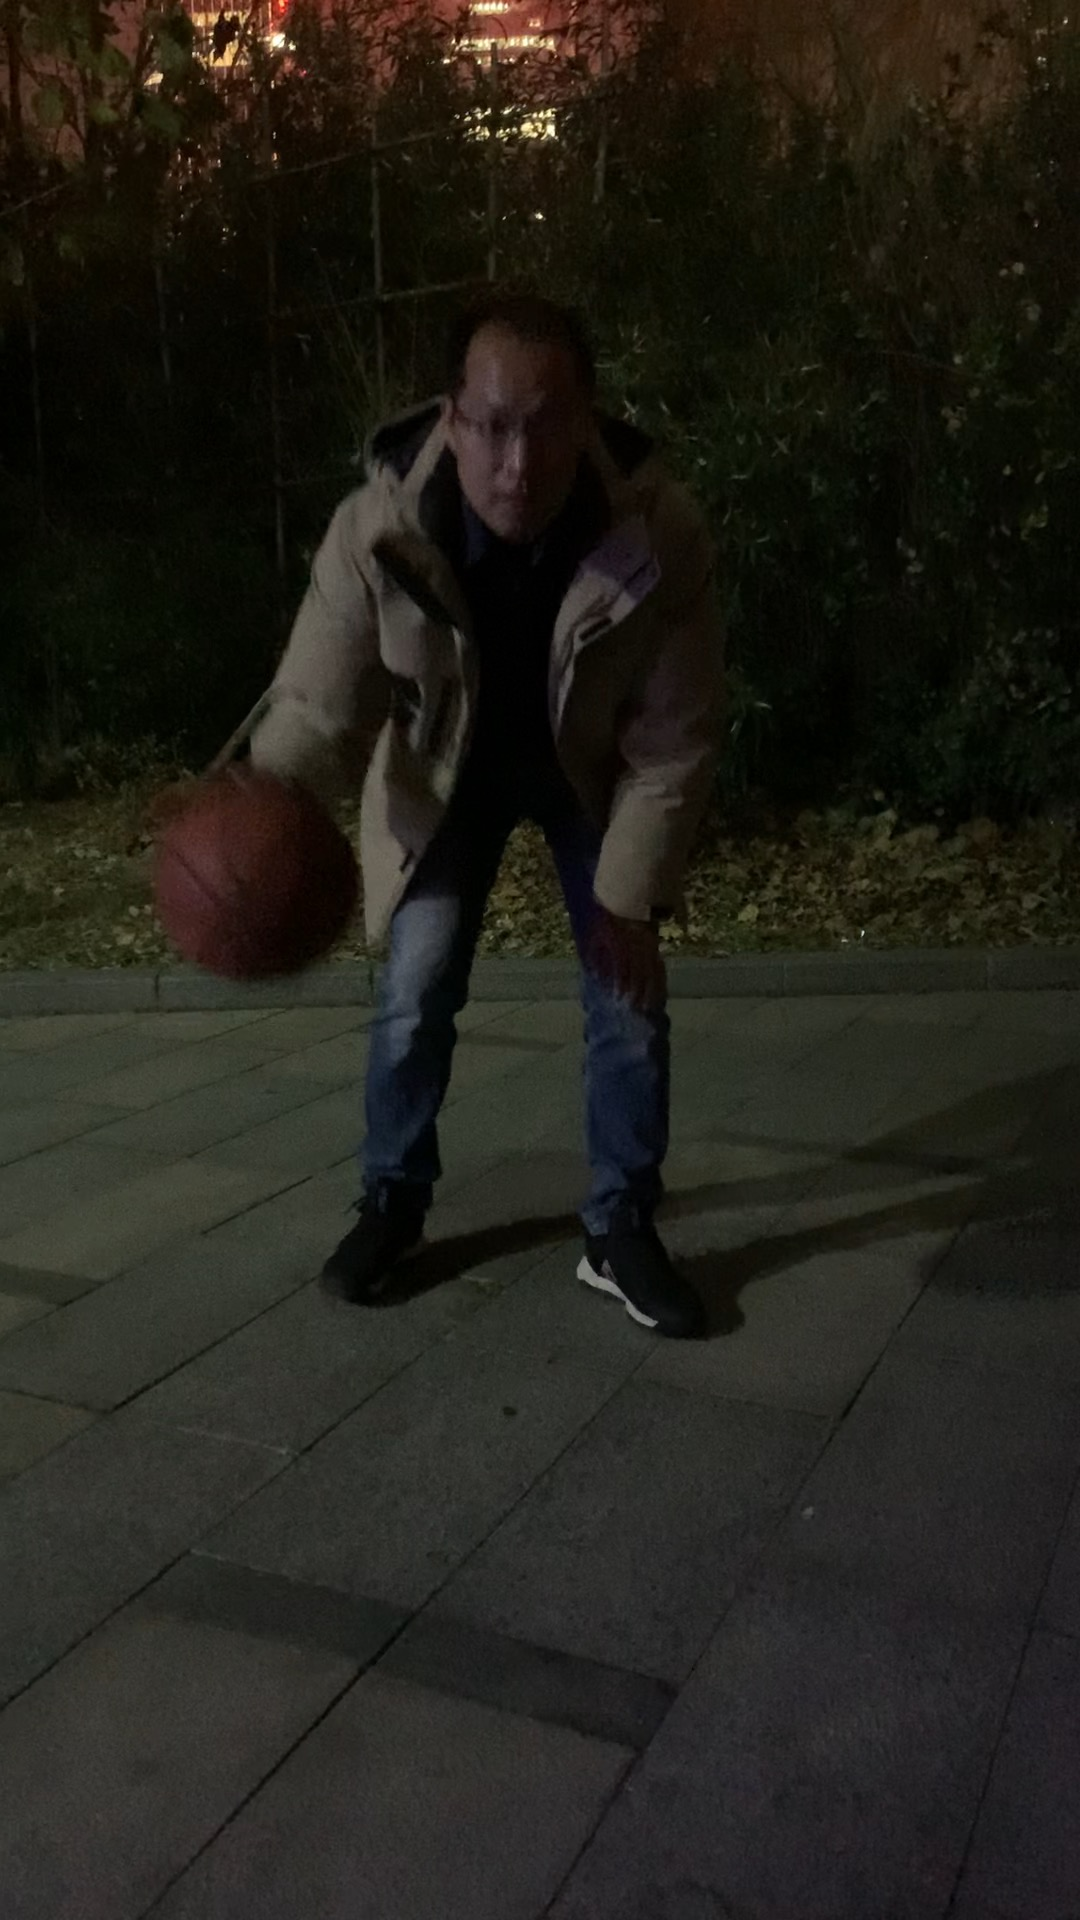ball: (158, 782, 360, 984)
